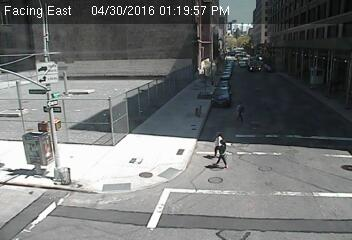neg: (27, 117, 54, 152), (44, 160, 62, 183), (188, 98, 204, 119), (194, 63, 209, 83)
pos: (212, 140, 234, 168), (233, 100, 251, 123)
